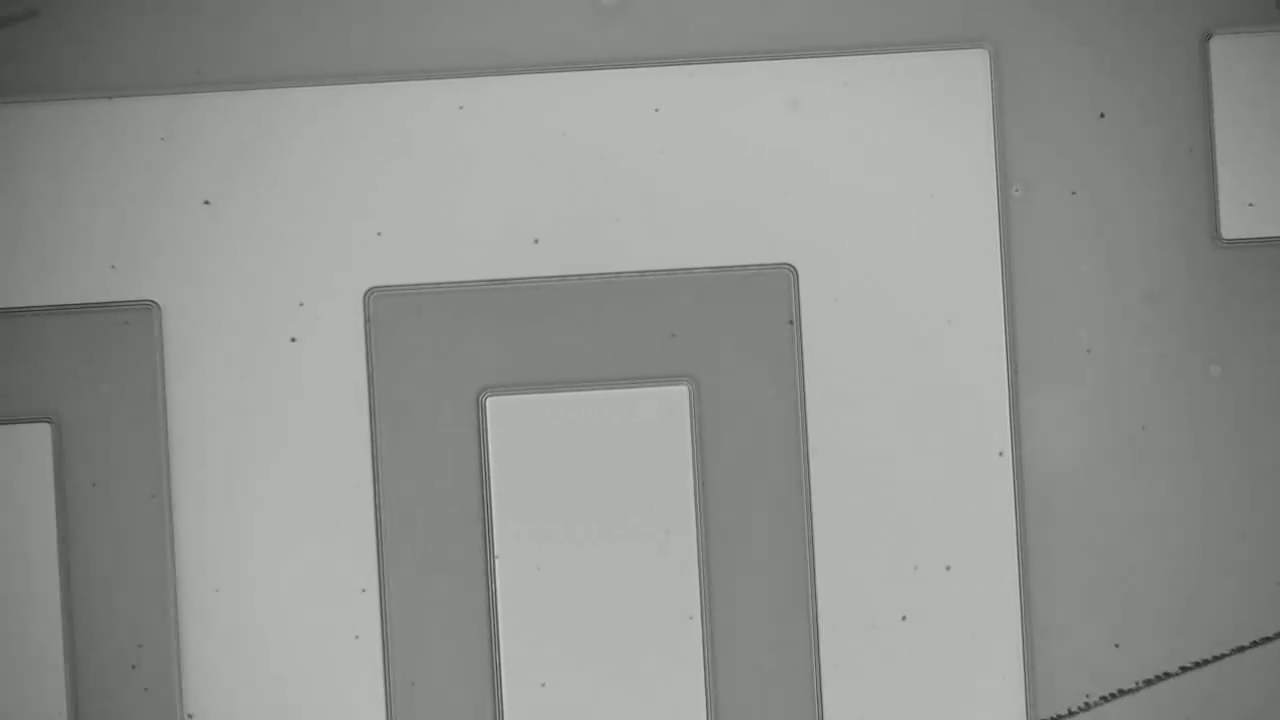scratch: (1060, 629, 1277, 714)
